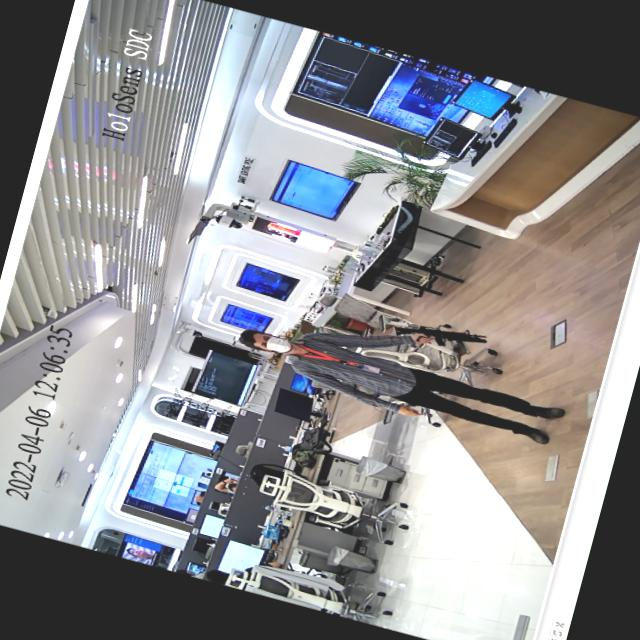long weapon: (383, 301, 498, 364)
